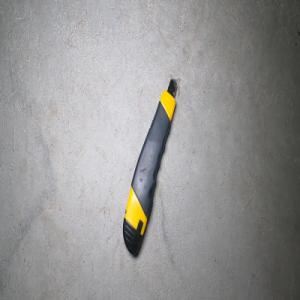Cutter: (121, 77, 178, 257)
